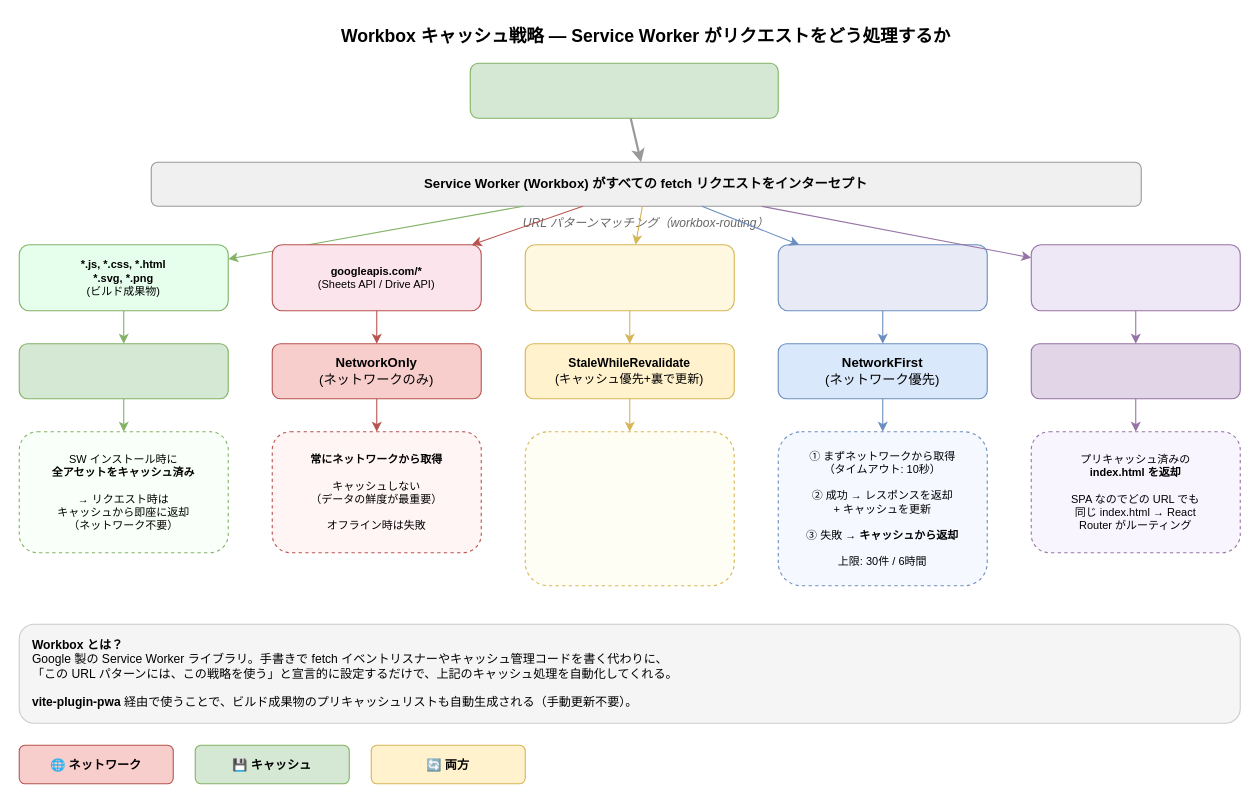
This 1260x803 diagram has some shape labels left out. The centre of each missing label's shape, as x and y in pixels:
api.open-meteo.com/* (天気予報 API): (x=882, y=277)
googleusercontent.com/* (Drive サムネイル画像): (x=629, y=277)
navigateFallback (SPA フォールバック): (x=1135, y=371)
Precache (プリキャッシュ): (x=123, y=371)
React アプリ fetch() リクエスト送信: (x=623, y=90)
① キャッシュがあれば 即座にキャッシュを返却 ② 同時にバックグラウンドで ネットワークから最新版を取得 → キャッシュを更新 上限: 200件 / 7日間: (x=629, y=508)
ページ遷移 (ナビゲーションリクエスト): (x=1135, y=277)
